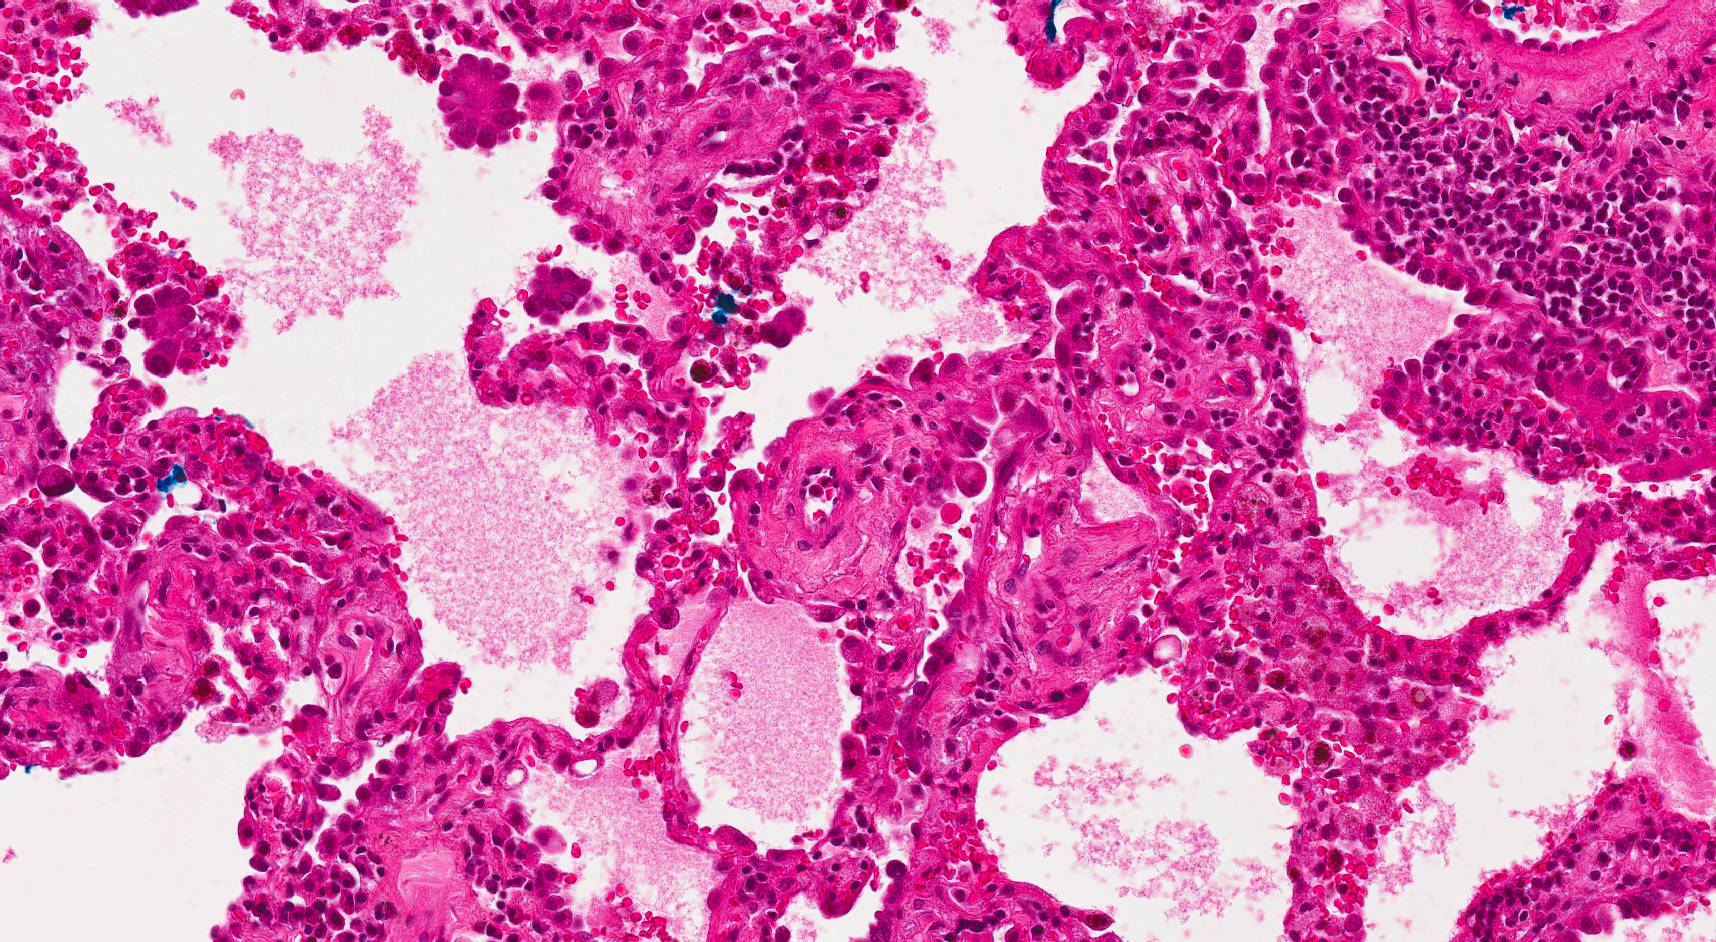stas: (434, 52, 525, 151), (127, 283, 198, 378), (522, 262, 588, 324)
